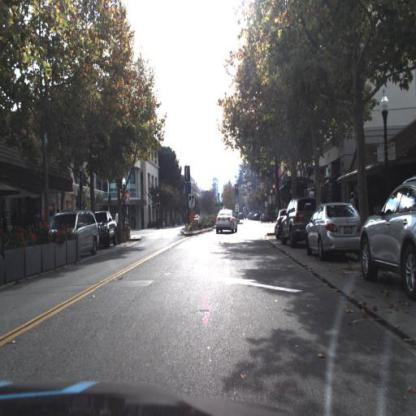car: (360, 174, 415, 302), (306, 202, 365, 264), (279, 196, 316, 252), (52, 211, 99, 255), (195, 206, 221, 239), (96, 211, 119, 247)
trafficLight-Red: (234, 182, 239, 198)
